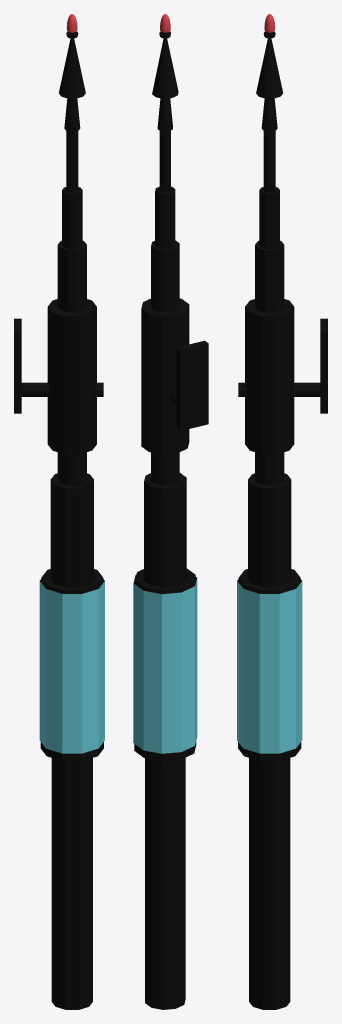
The model's file is Antenne_1.fbx.
The picture shows the model from 3 angles, left to right: view 1: azimuth 90°, elevation 25°; view 2: azimuth 210°, elevation 25°; view 3: azimuth 270°, elevation 25°; orthographic projection.
Parts seen in each view (by area): view 1: Cube.010; view 2: Cube.010; view 3: Cube.010.
Boxes of the visible parts, x1=… form: Cube.010: x1=14, y1=14, x2=104, y2=1009; Cube.010: x1=133, y1=14, x2=208, y2=1009; Cube.010: x1=237, y1=14, x2=327, y2=1009.
Bounding box in the file's own units: 73.83 × 1298 × 108.
